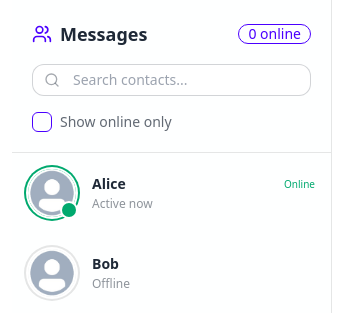
Scenario: Sidebar UI › shows "No results found" when search matches nothing
Type "Zebra" into the field with placeholder "Search contacts..." at (172, 80), box x1=32 y1=64 x2=311 y2=96
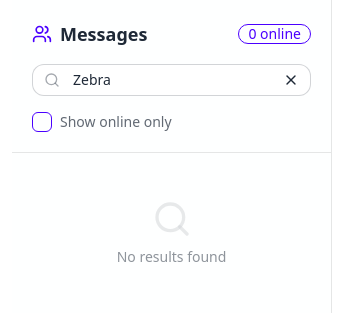
Result: the text "No results found" is shown at x1=117 y1=247 x2=226 y2=267
